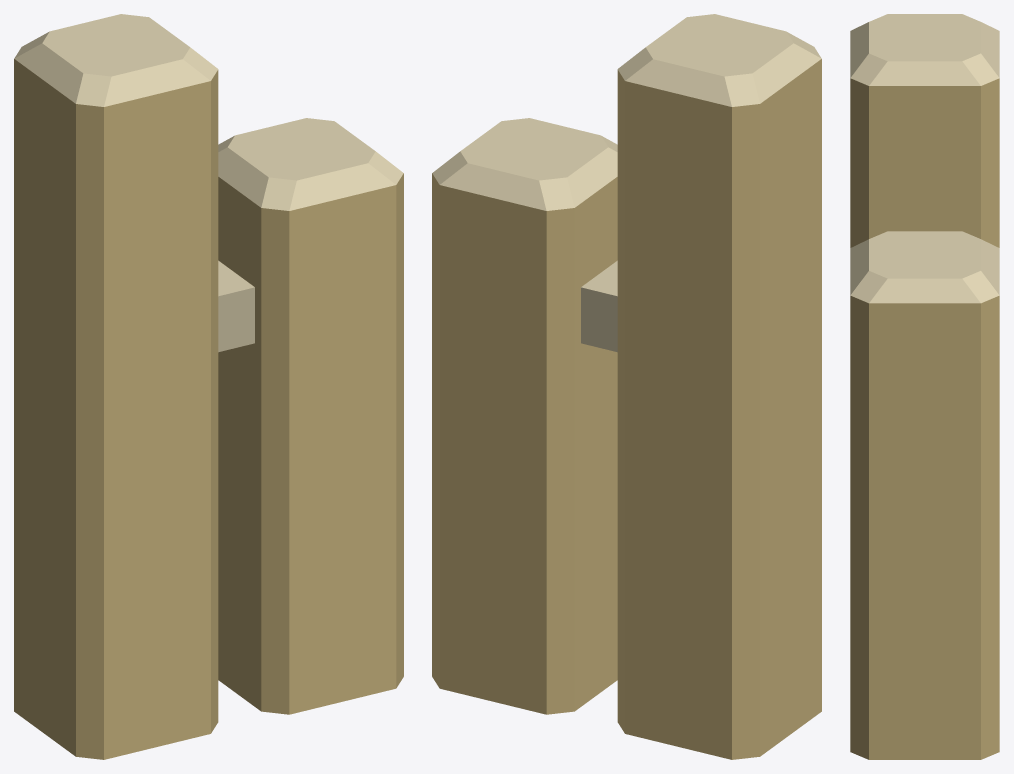
The model's file is Building4.glb.
The picture shows the model from 3 angles, left to right: view 1: azimuth 30°, elevation 25°; view 2: azimuth 150°, elevation 25°; view 3: azimuth 270°, elevation 25°; orthographic projection. The views are drawn at different scales.
Parts seen in each view (by area): view 1: Building4; view 2: Building4; view 3: Building4.
Boxes of the visible parts, bbox=[...] form: Building4: bbox=[14, 14, 403, 759]; Building4: bbox=[432, 14, 821, 759]; Building4: bbox=[850, 14, 999, 759].
Size of the model in its own units: 9.2 by 18 by 4.
